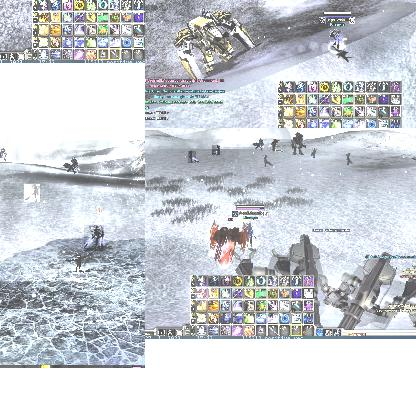caliana: (84, 225, 104, 251), (24, 184, 40, 202), (262, 154, 272, 168), (188, 151, 196, 163), (346, 152, 352, 166), (212, 145, 220, 155), (312, 148, 316, 158)
